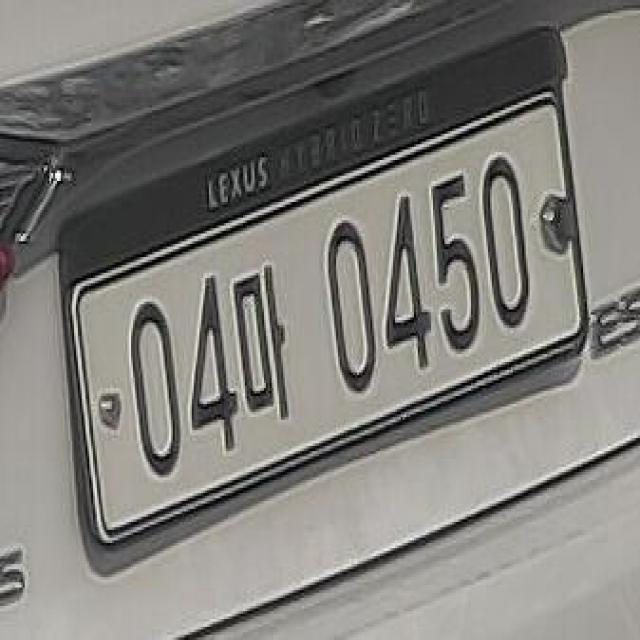illegal_plate: (71, 92, 589, 571)
